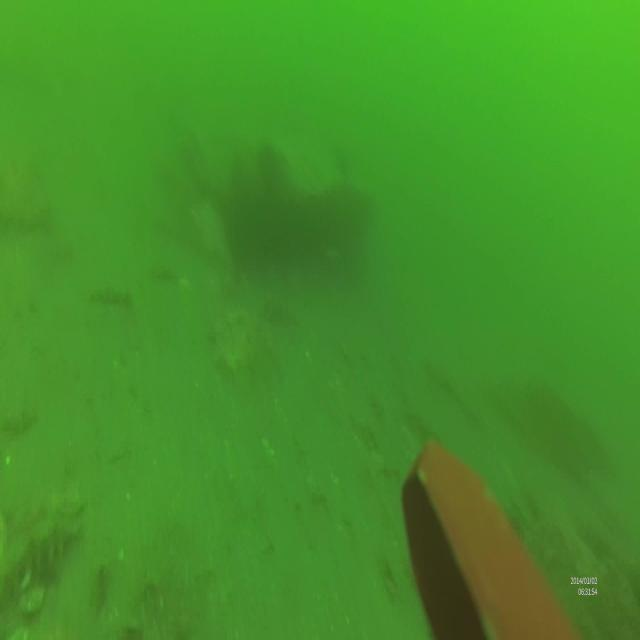holothurian: (3, 511, 82, 591)
